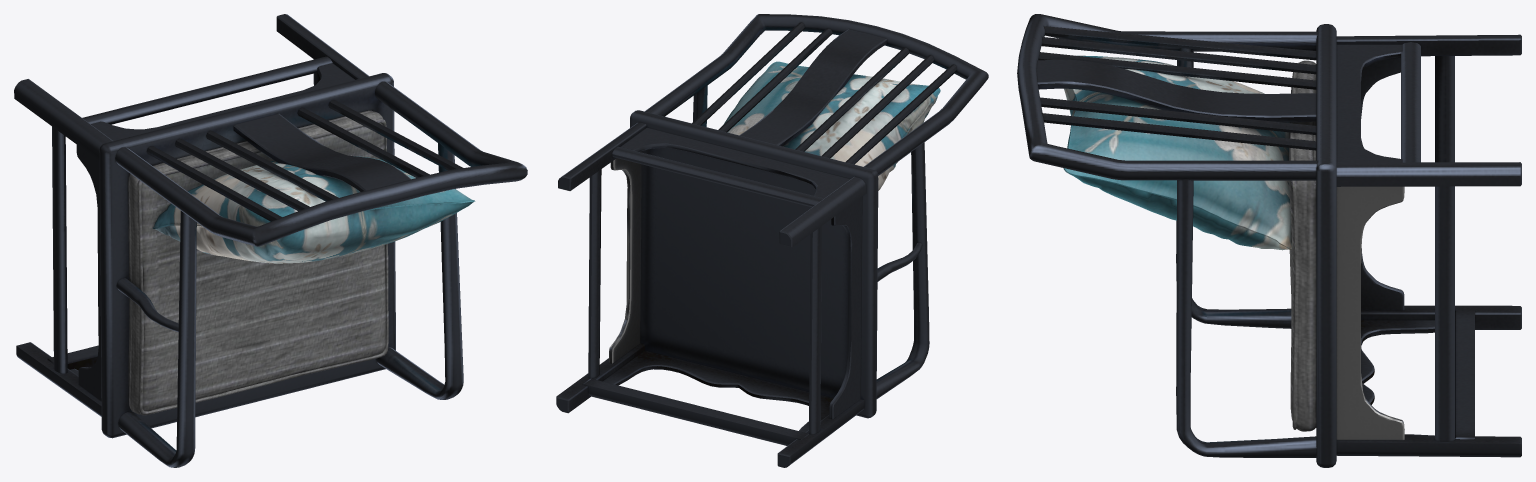
Rendered from raw_model.glb.
3 renders of one model, left to right at view 1: azimuth 30°, elevation 25°; view 2: azimuth 150°, elevation 25°; view 3: azimuth 270°, elevation 25°, orthographic. The views are drawn at different scales.
Parts seen in each view (by area): view 1: raw_model.032; view 2: raw_model.032; view 3: raw_model.032.
Boxes of the visible parts, left/top/right/bottom form: raw_model.032: left=14, top=14, right=527, bottom=467; raw_model.032: left=556, top=14, right=988, bottom=467; raw_model.032: left=1017, top=14, right=1521, bottom=467.
Bounding box in the file's own units: 0.5662 × 0.5967 × 0.8143.
Materials: 1 (1 with a texture image).
